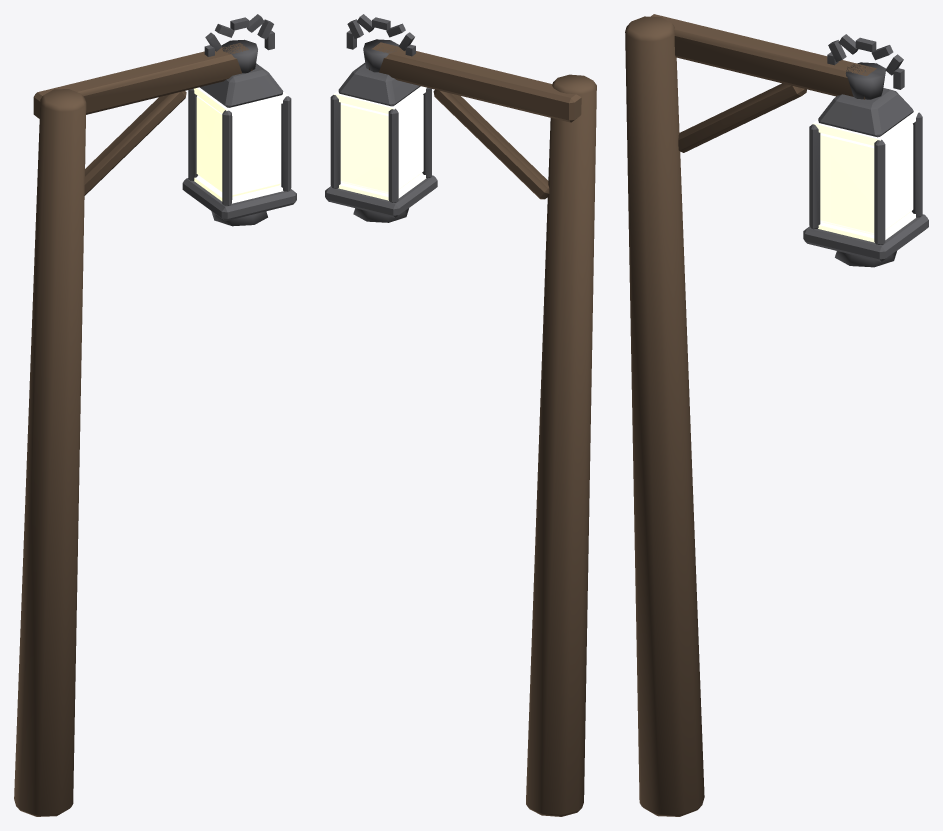
Rendered from lantern_post.178c41e5.glb.
3 views of the same model, side by side, from view 1: azimuth 30°, elevation 25°; view 2: azimuth 150°, elevation 25°; view 3: azimuth 330°, elevation 25° (orthographic). The views are drawn at different scales.
Visible parts, largest first — view 1: lantern_post; view 2: lantern_post; view 3: lantern_post.
Boxes of the visible parts, left/top/right/bottom form: lantern_post: left=14, top=14, right=296, bottom=816; lantern_post: left=325, top=14, right=596, bottom=816; lantern_post: left=625, top=14, right=928, bottom=816.
Bounding box in the file's own units: 0.8303 × 2.38 × 0.2671.
